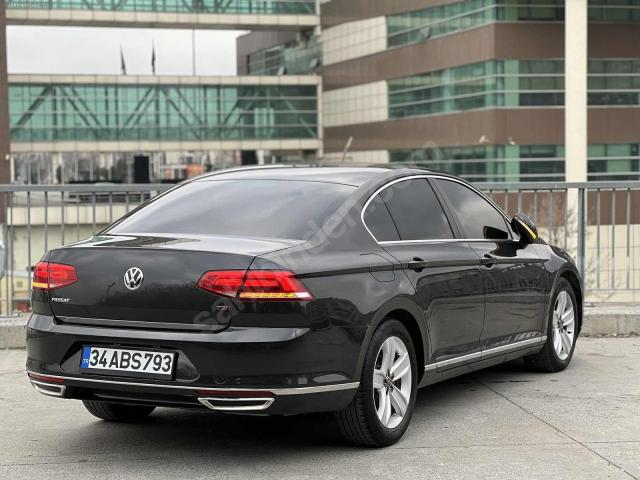plaka: (80, 346, 174, 378)
